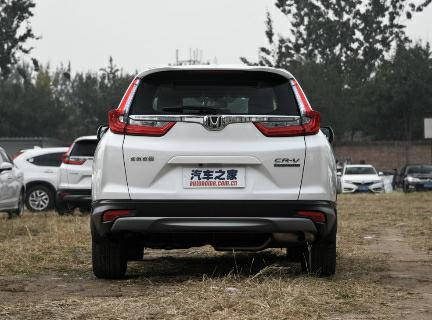本田-CR-V: (88, 63, 345, 280)
